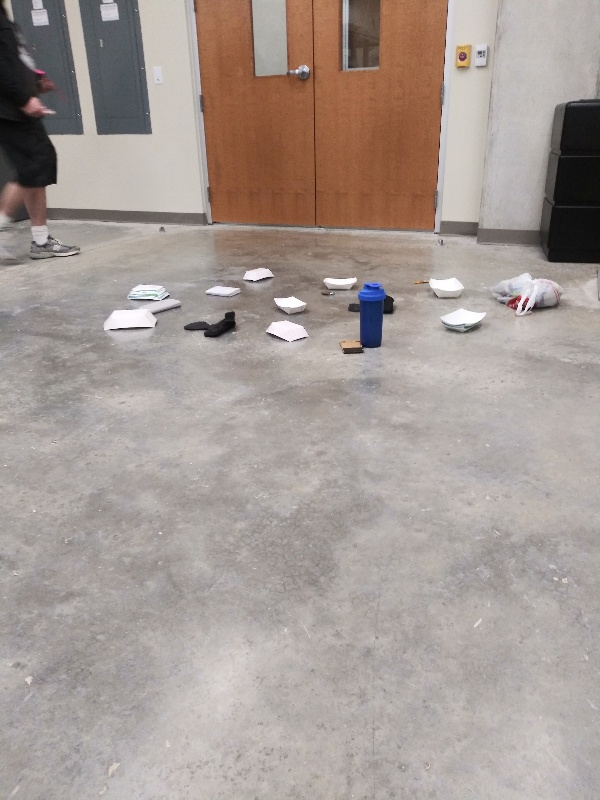plate: (100, 306, 162, 335), (439, 305, 490, 336), (261, 315, 313, 344), (424, 272, 465, 302), (269, 293, 311, 315), (238, 262, 278, 284), (318, 271, 358, 292), (123, 282, 168, 300)
